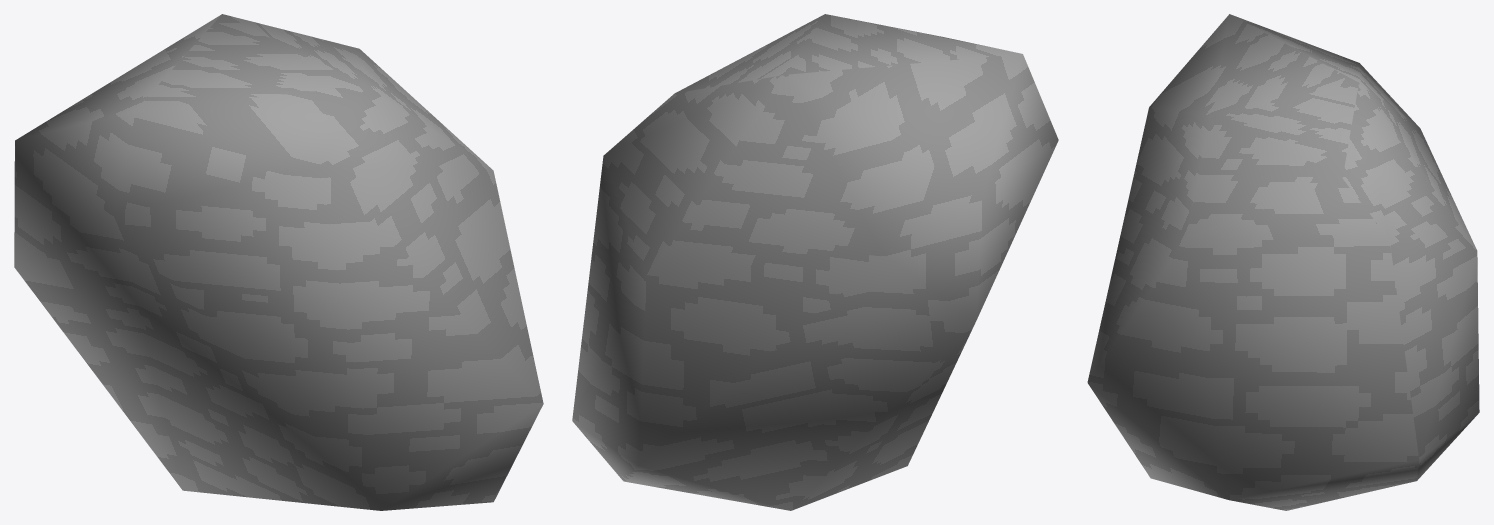
File: Rock.FBX
3 views of the same model, side by side, from view 1: azimuth 30°, elevation 25°; view 2: azimuth 150°, elevation 25°; view 3: azimuth 270°, elevation 25° (orthographic). The views are drawn at different scales.
Parts seen in each view (by area): view 1: Rock; view 2: Rock; view 3: Rock.
Boxes of the visible parts, x1,y1,x2,y2 form: Rock: [14, 14, 543, 510]; Rock: [572, 14, 1058, 510]; Rock: [1087, 14, 1479, 510].
Size of the model in its own units: 59.93 by 66.28 by 63.8.
1 material, 1 textured.
